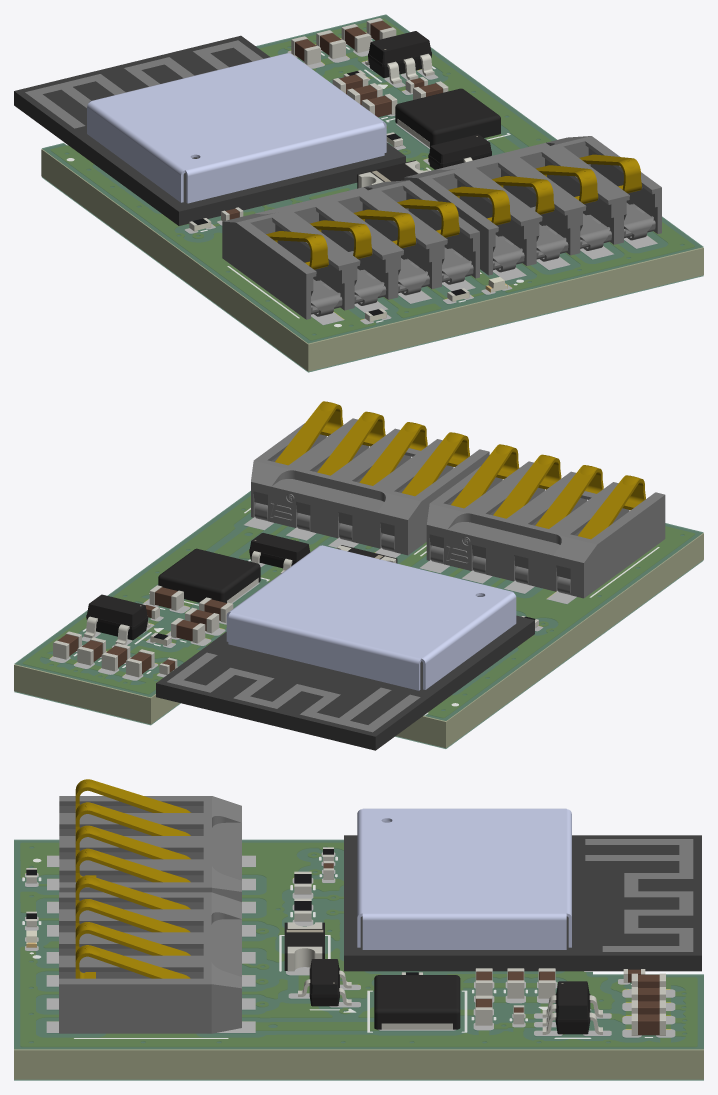
File: board.glb
The picture shows the model from 3 angles, top to bottom: view 1: azimuth 30°, elevation 25°; view 2: azimuth 150°, elevation 25°; view 3: azimuth 270°, elevation 25°; orthographic projection. The views are drawn at different scales.
Parts seen in each view (by area): view 1: 70aaj-4-m0 (×2), ESP32-PICO-MINI-02, board_PCB, board_soldermask (×2), board_copper, L_APV_ANR4010, board_pad, SOT-23-5, C_0603_1608Metric (×4), SOT-23, D_1206; view 2: 70aaj-4-m0 (×2), ESP32-PICO-MINI-02, board_soldermask (×2), board_PCB, board_copper, C_0603_1608Metric (×7), L_APV_ANR4010, board_pad, SOT-23-5, SOT-23; view 3: ESP32-PICO-MINI-02, 70aaj-4-m0 (×2), board_soldermask (×2), board_PCB, board_copper, board_pad, L_APV_ANR4010, C_0603_1608Metric (×8), SOT-23-5, SOT-23, D_1206, board_silkscreen.
Boxes of the visible parts, <box> form: 70aaj-4-m0 (×2): <box>222,136,661,319</box>; ESP32-PICO-MINI-02: <box>14,35,405,225</box>; board_PCB: <box>41,16,703,371</box>; board_soldermask (×2): <box>42,14,703,372</box>; board_copper: <box>51,19,694,339</box>; L_APV_ANR4010: <box>395,88,500,147</box>; board_pad: <box>185,32,657,325</box>; SOT-23-5: <box>365,31,434,84</box>; C_0603_1608Metric (×4): <box>291,24,397,117</box>; SOT-23: <box>428,134,491,169</box>; D_1206: <box>357,160,429,188</box>; 70aaj-4-m0 (×2): <box>251,401,665,598</box>; ESP32-PICO-MINI-02: <box>156,545,534,750</box>; board_soldermask (×2): <box>14,491,703,748</box>; board_PCB: <box>14,492,703,748</box>; board_copper: <box>23,496,694,717</box>; C_0603_1608Metric (×7): <box>53,585,219,677</box>; L_APV_ANR4010: <box>158,548,260,603</box>; board_pad: <box>49,517,576,680</box>; SOT-23-5: <box>84,594,150,644</box>; SOT-23: <box>249,533,310,573</box>; ESP32-PICO-MINI-02: <box>344,808,701,971</box>; 70aaj-4-m0 (×2): <box>59,779,241,1033</box>; board_soldermask (×2): <box>14,839,703,1080</box>; board_PCB: <box>14,841,703,1079</box>; board_copper: <box>21,843,696,1046</box>; board_pad: <box>25,852,675,1037</box>; L_APV_ANR4010: <box>374,975,460,1029</box>; C_0603_1608Metric (×8): <box>475,968,665,1035</box>; SOT-23-5: <box>542,981,602,1034</box>; SOT-23: <box>298,959,351,1006</box>; D_1206: <box>284,922,324,971</box>; board_silkscreen: <box>22,856,652,1038</box>.
Size of the model in its own units: 0.023 by 0.00565 by 0.032.
